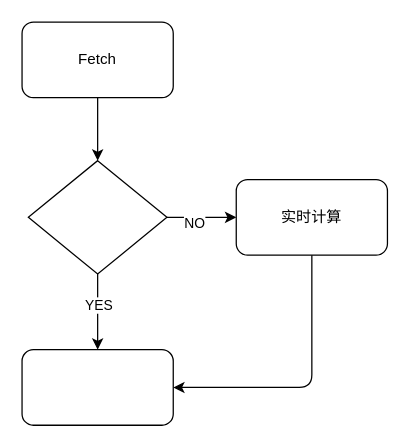
This 410x447 diagram has some shape labels left out. Each missing label, with the centre of its shape:
"是否命中缓存？" goes at (x=97, y=216).
"返回结果" goes at (x=97, y=386).
